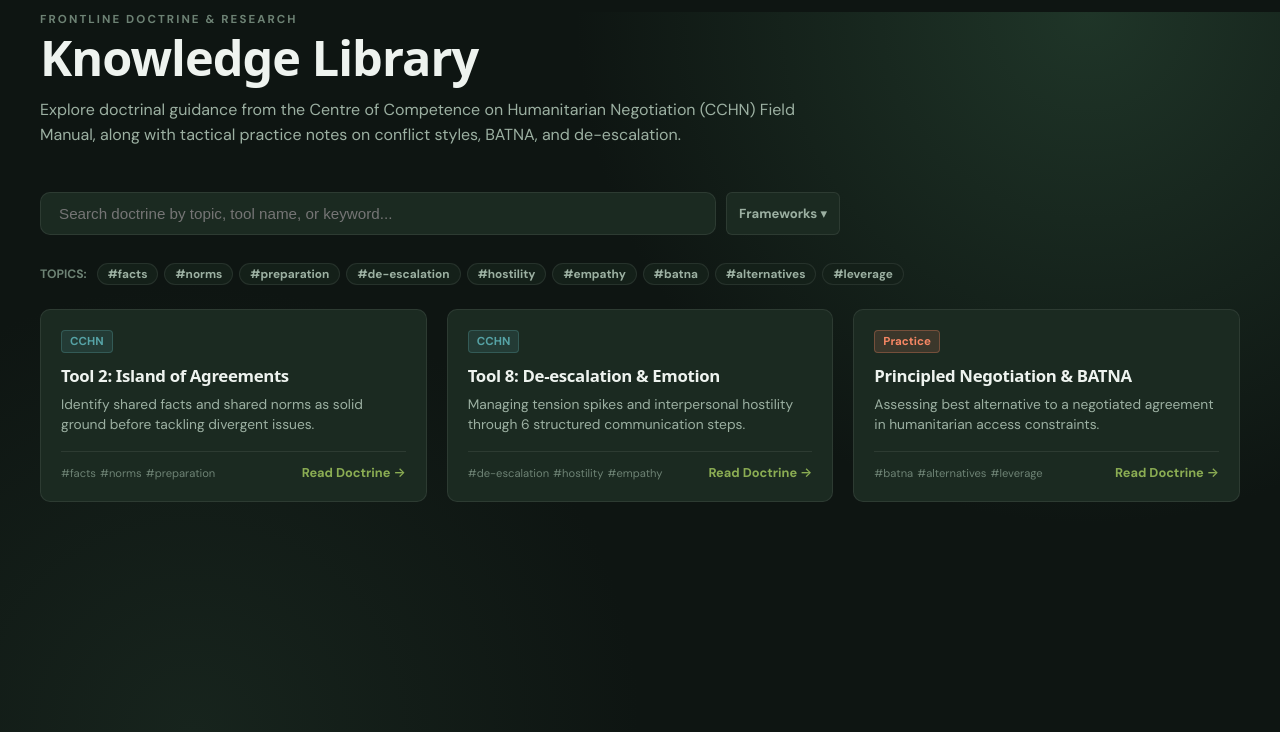
Test: KnowledgeLibrary › filters doctrine cards by search query
This screenshot has width=1280, height=732.
expect the heading "Tool 2: Island of Agreements" is shown: met, box left=61, top=364, right=289, bottom=387
Type "de-escalation" into the search field with placeholder "Search doctrine by topic, tool name, or keyword..." at (378, 213), box left=40, top=192, right=716, bottom=235
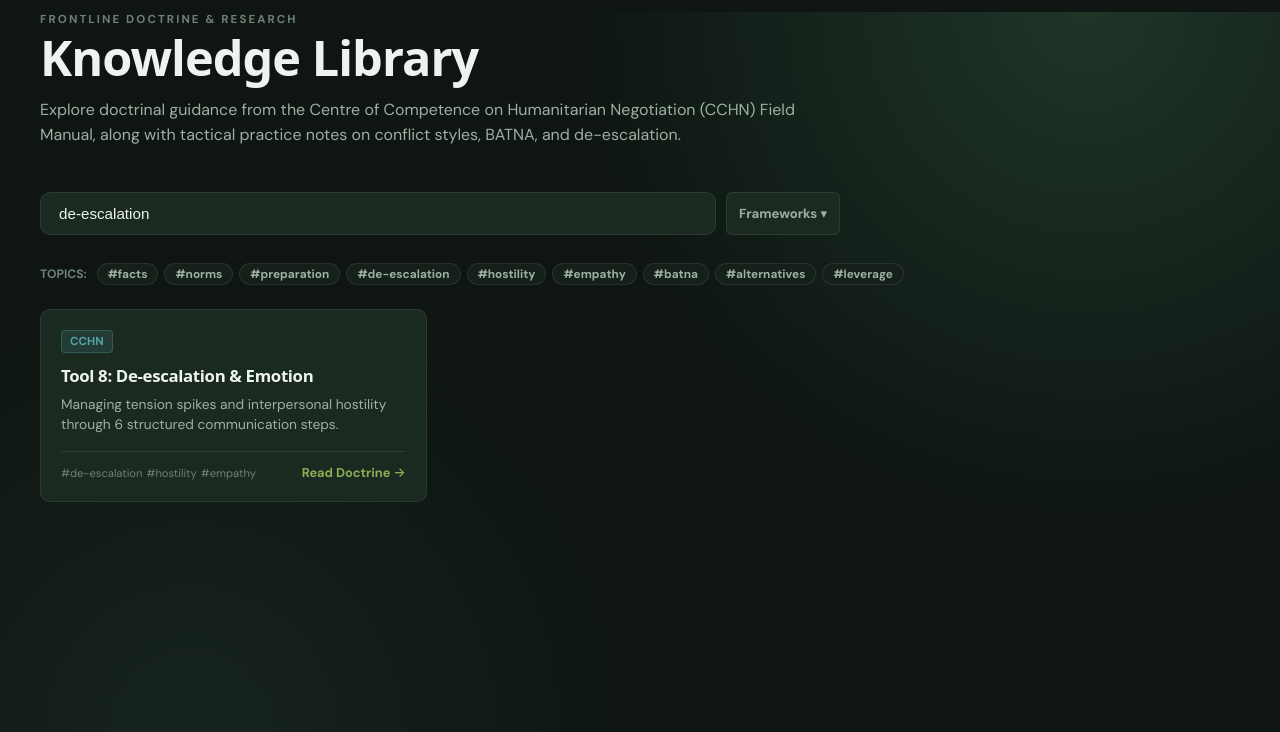
expect the heading "Tool 8: De-escalation & Emotion" is shown: met, box left=61, top=364, right=313, bottom=387
expect the button "Tool 2: Island of Agreements" is gone: met
expect the button "Principled Negotiation & BATNA" is gone: met
